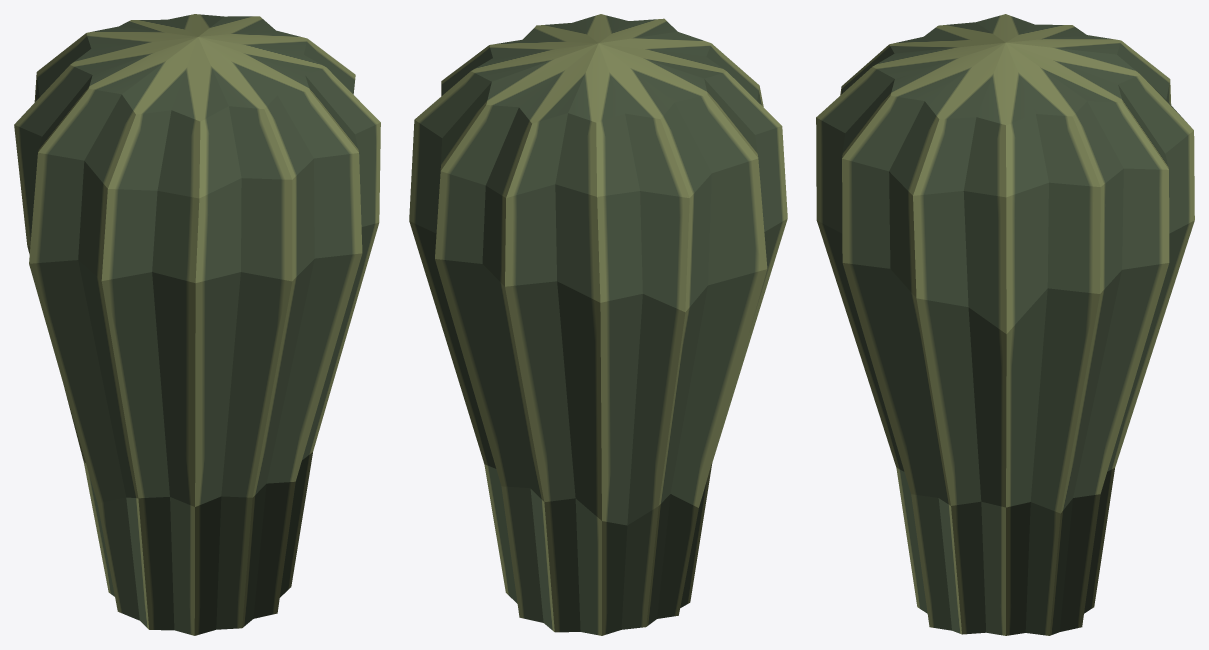
3 views of the same model, side by side, from view 1: azimuth 30°, elevation 25°; view 2: azimuth 150°, elevation 25°; view 3: azimuth 270°, elevation 25° (orthographic).
Parts seen in each view (by area): view 1: SM_Env_Cactus_03; view 2: SM_Env_Cactus_03; view 3: SM_Env_Cactus_03.
Boxes of the visible parts, x1,y1,x2,y2 form: SM_Env_Cactus_03: [14, 14, 380, 635]; SM_Env_Cactus_03: [409, 14, 787, 635]; SM_Env_Cactus_03: [816, 14, 1194, 635].
Size of the model in its own units: 0.4025 by 0.6604 by 0.4001.
Materials: 1 (1 with a texture image).
